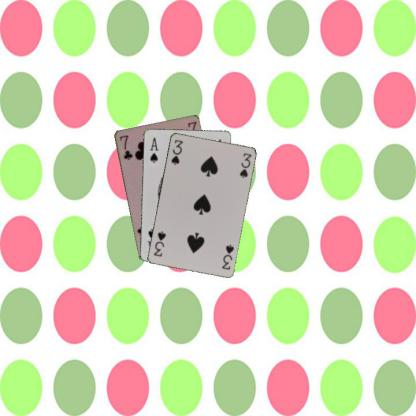3s: (168, 137, 184, 166), (219, 242, 235, 271)
7c: (117, 132, 134, 162)
As: (147, 135, 159, 164)
